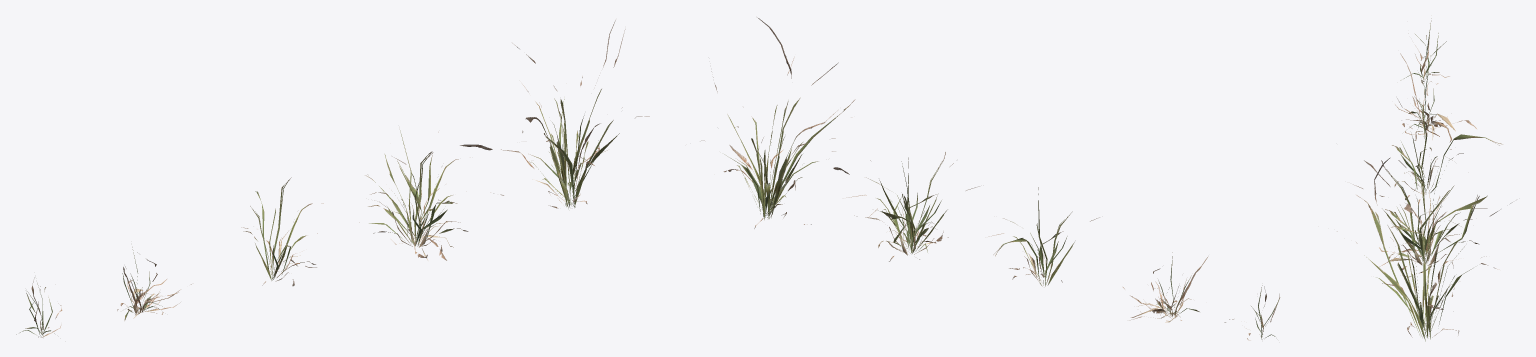
The model's file is grass_medium_02.glb.
The picture shows the model from 3 angles, left to right: view 1: azimuth 30°, elevation 25°; view 2: azimuth 150°, elevation 25°; view 3: azimuth 270°, elevation 25°; orthographic projection. The views are drawn at different scales.
Parts seen in each view (by area): view 1: grass_medium_02_e, grass_medium_02_d, grass_medium_02_c, grass_medium_02_b; view 2: grass_medium_02_e, grass_medium_02_d, grass_medium_02_c, grass_medium_02_b; view 3: grass_medium_02_e, grass_medium_02_d, grass_medium_02_c, grass_medium_02_b, grass_medium_02_a.
Boxes of the visible parts, x1=… form: grass_medium_02_e: x1=460, y1=20, x2=649, y2=208; grass_medium_02_d: x1=359, y1=130, x2=470, y2=260; grass_medium_02_c: x1=241, y1=177, x2=323, y2=286; grass_medium_02_b: x1=117, y1=247, x2=191, y2=320; grass_medium_02_e: x1=700, y1=17, x2=855, y2=228; grass_medium_02_d: x1=846, y1=152, x2=979, y2=261; grass_medium_02_c: x1=988, y1=187, x2=1099, y2=286; grass_medium_02_b: x1=1123, y1=252, x2=1208, y2=322; grass_medium_02_e: x1=1337, y1=157, x2=1512, y2=341; grass_medium_02_d: x1=1353, y1=160, x2=1487, y2=277; grass_medium_02_c: x1=1392, y1=96, x2=1502, y2=208; grass_medium_02_b: x1=1395, y1=53, x2=1476, y2=141; grass_medium_02_a: x1=1400, y1=18, x2=1449, y2=84.
Size of the model in its own units: 1.29 by 0.4034 by 0.3851.
1 material, 1 textured.
